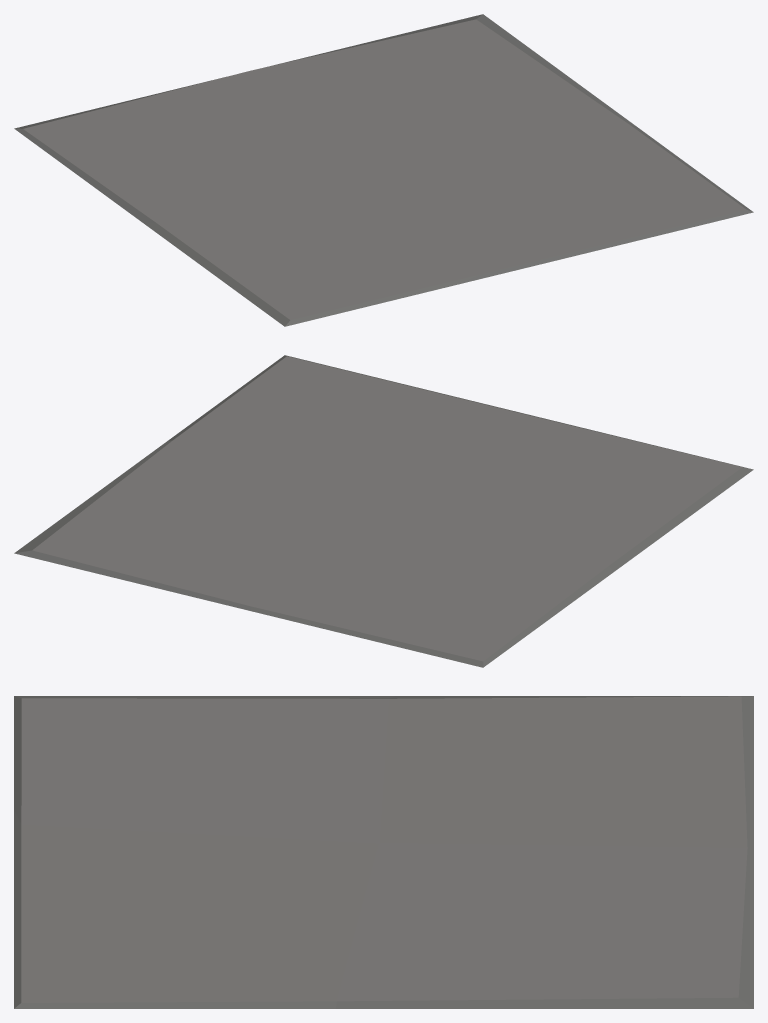
Rendered from SM_Gen_Env_Sidewalk_01.glb.
The picture shows the model from 3 angles, top to bottom: view 1: azimuth 30°, elevation 25°; view 2: azimuth 150°, elevation 25°; view 3: azimuth 270°, elevation 25°; orthographic projection. The views are drawn at different scales.
Visible parts, largest first — view 1: SM_Gen_Env_Sidewalk_012; view 2: SM_Gen_Env_Sidewalk_012; view 3: SM_Gen_Env_Sidewalk_012.
Boxes of the visible parts, x1=… form: SM_Gen_Env_Sidewalk_012: x1=14, y1=14, x2=753, y2=326; SM_Gen_Env_Sidewalk_012: x1=14, y1=355, x2=753, y2=667; SM_Gen_Env_Sidewalk_012: x1=14, y1=696, x2=753, y2=1008.
Size of the model in its own units: 2.5 by 0.0131 by 2.5.
Materials: 1 (1 with a texture image).
